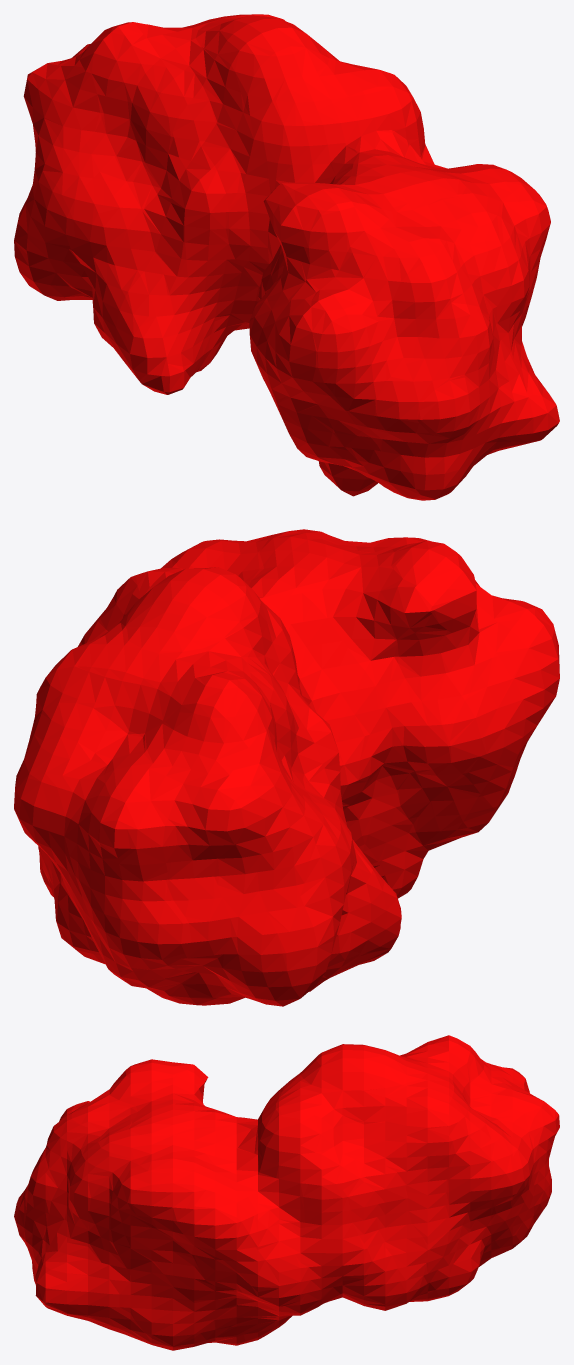
File: engB_coarse.dae
3 renders of one model, top to bottom at view 1: azimuth 30°, elevation 25°; view 2: azimuth 150°, elevation 25°; view 3: azimuth 270°, elevation 25°, orthographic. The views are drawn at different scales.
Parts seen in each view (by area): view 1: engB; view 2: engB; view 3: engB.
Part boxes in pixels (x1=…): engB: x1=14, y1=14, x2=559, y2=500; engB: x1=14, y1=529, x2=559, y2=1006; engB: x1=14, y1=1035, x2=559, y2=1350.
Bounding box in the file's own units: 46.49 × 47.25 × 81.08.
